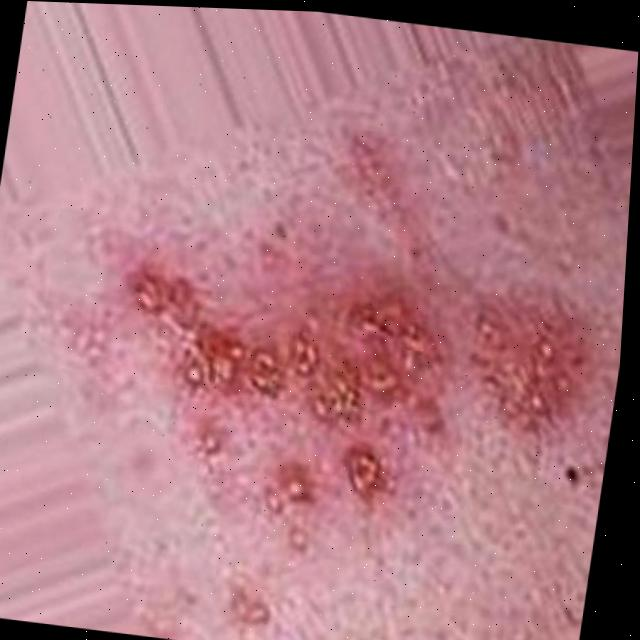Shingles: (100, 264, 447, 526), (450, 307, 596, 433)
